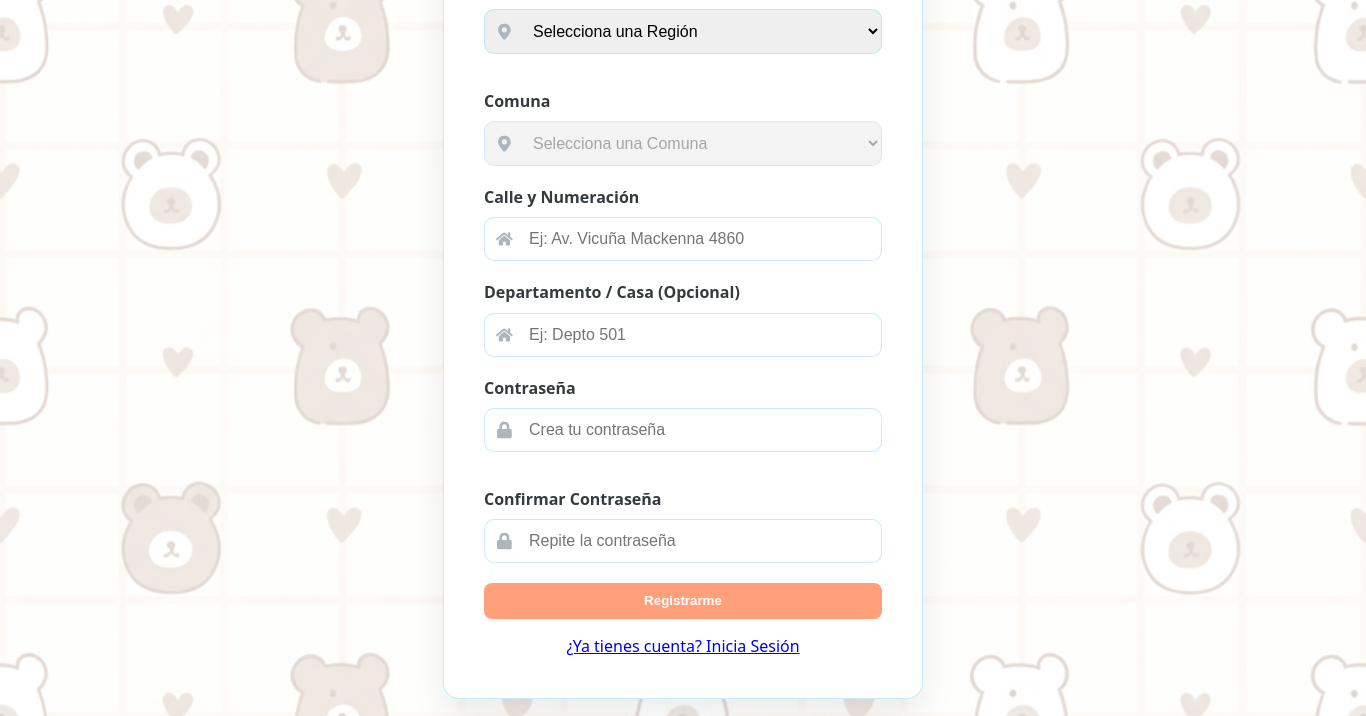
Scenario: Componente: RegisterForm › debería mostrar un error si las contraseñas no coinciden
(page scrolled)
Step 1. Type "pass123" into the password field labelled "Contraseña" → [683, 430], box [484, 408, 882, 452]
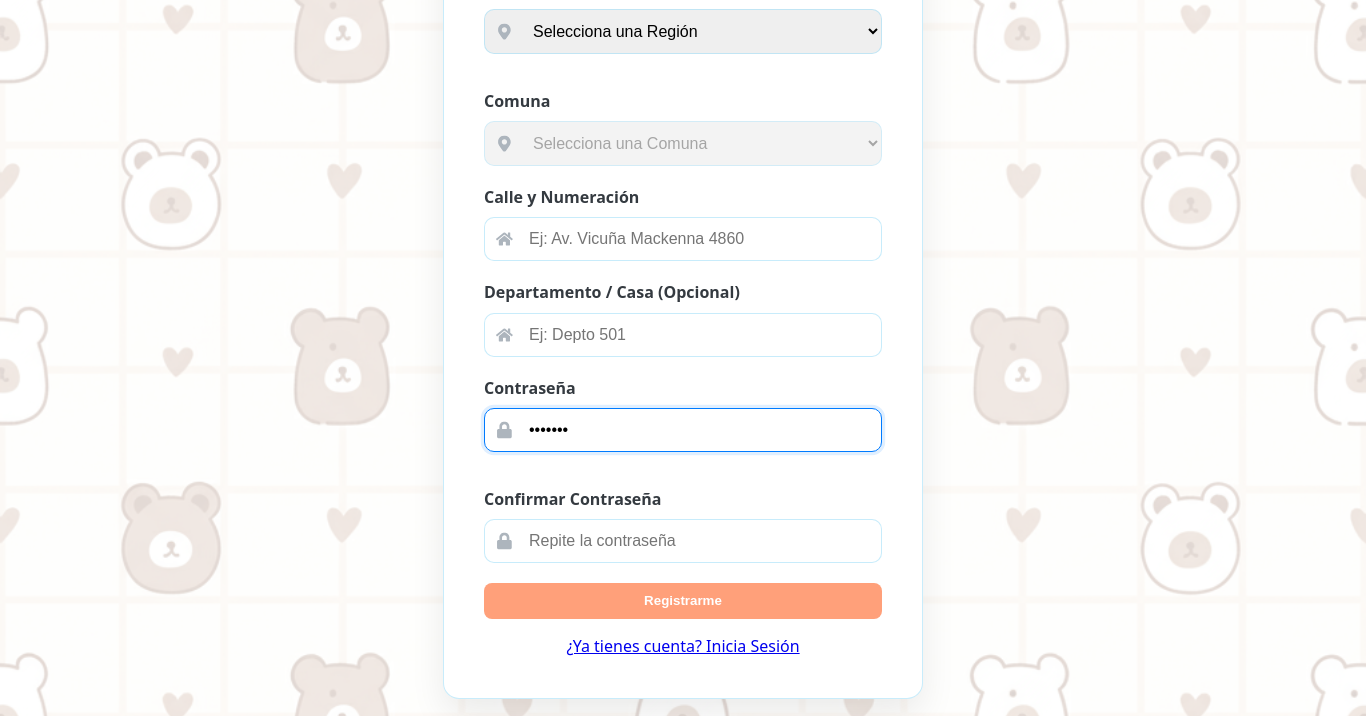
Step 2. Type "pass456" into the password field labelled "Confirmar Contraseña" → [683, 541], box [484, 519, 882, 563]
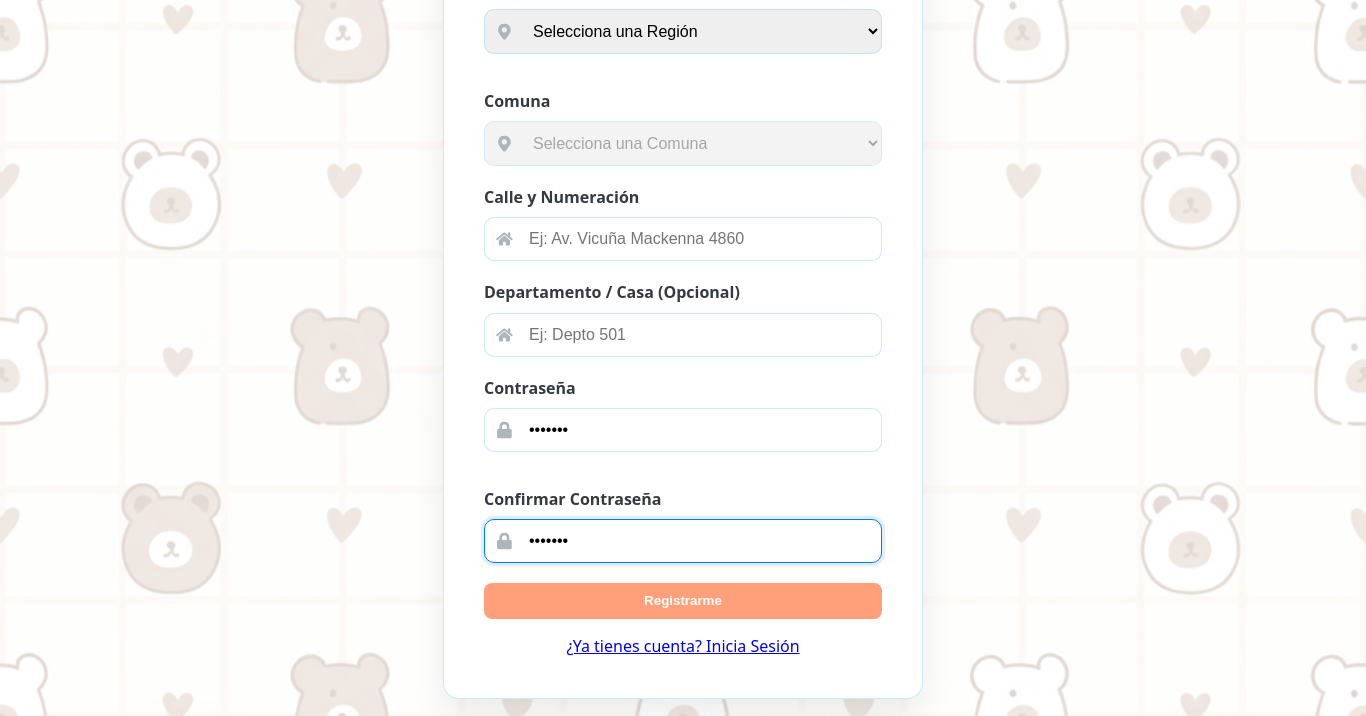
Step 3. Click the button "Registrarme" → [683, 601], box [484, 583, 882, 619]
(page scrolled)
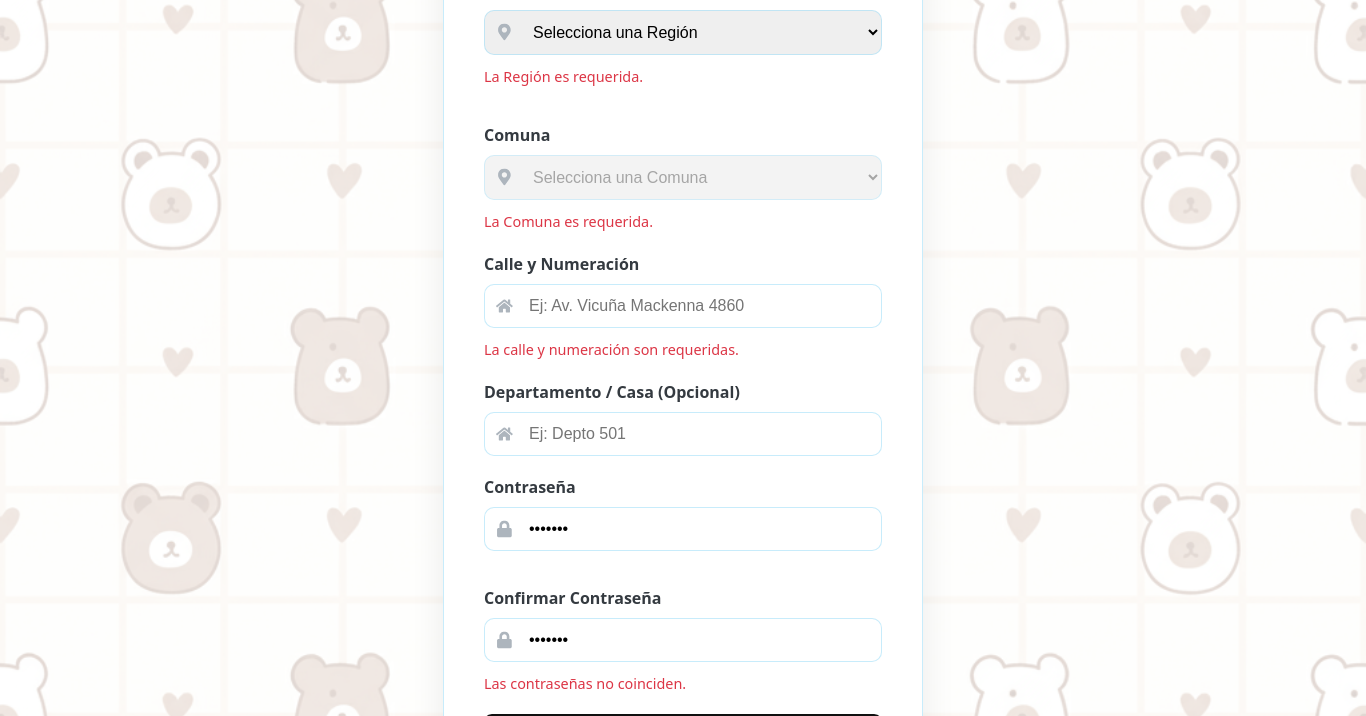
Result: the text "Las contraseñas no coinciden." is shown at [484, 674, 686, 693]
